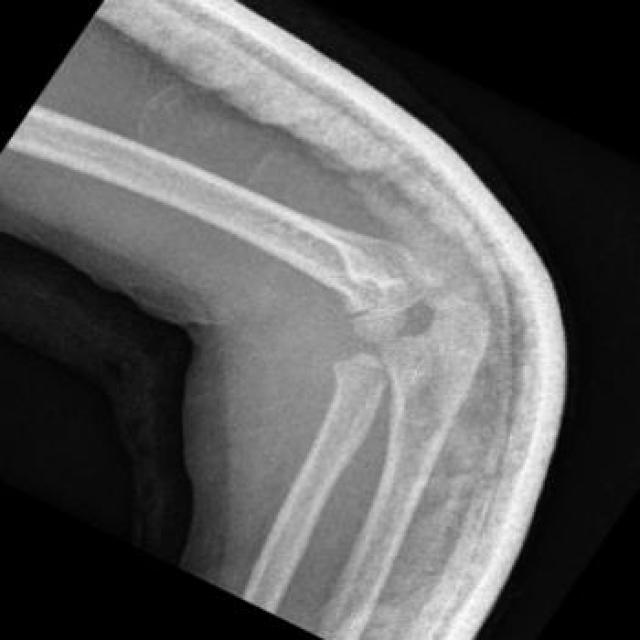Fracture: (307, 292, 395, 338)
